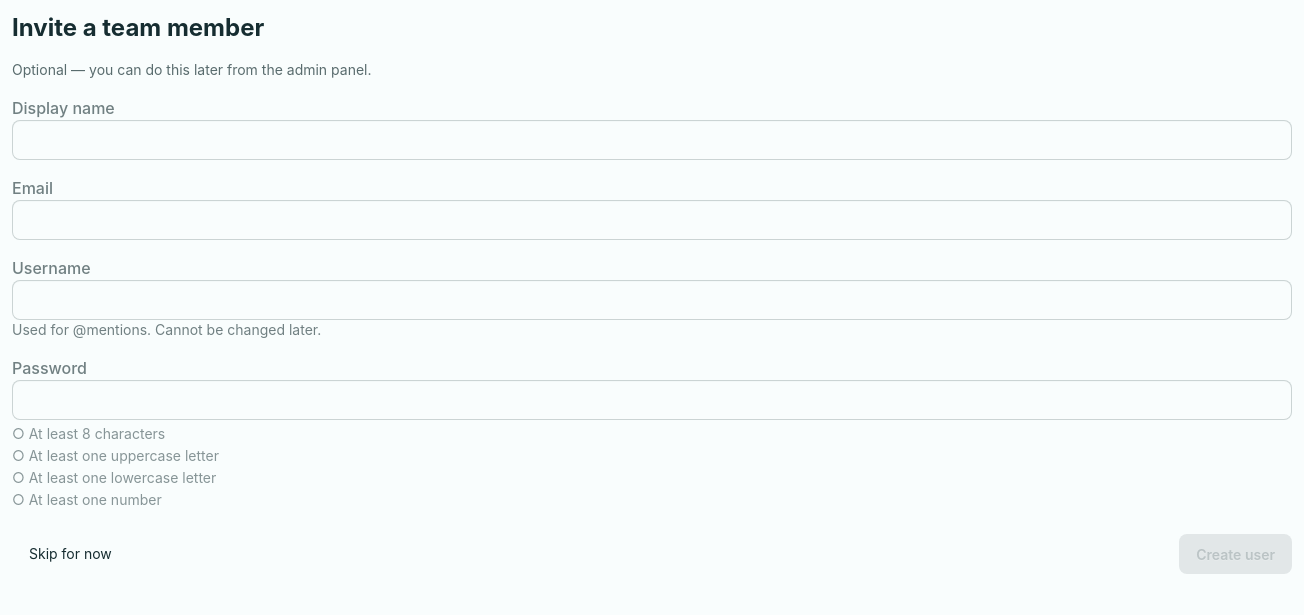
it: wizard team-member step: username › shows "taken" from the server on the username field rather than "email already registered"
This screenshot has width=1304, height=615.
Type "Demo User" into the field with id "user-name" at (652, 140), box [12,120,1292,160]
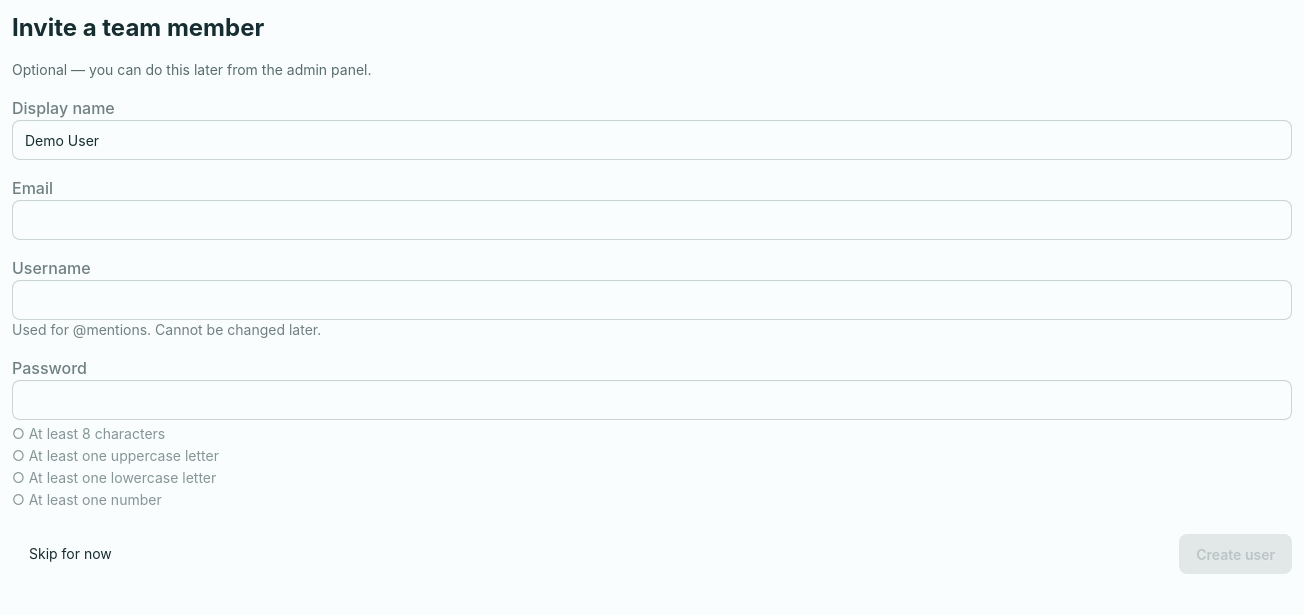
Type "demo@example.com" into the field with id "user-email" at (652, 220), box [12,200,1292,240]
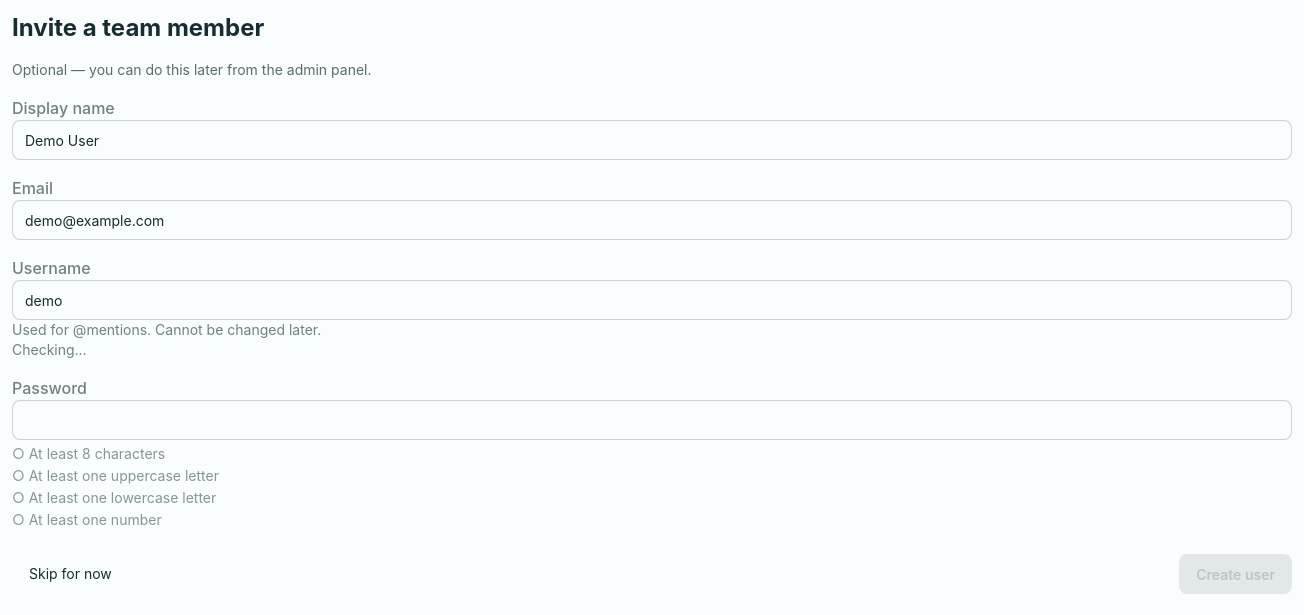
Type "Passw0rd!x" into the password field with id "user-password" at (652, 420), box [12,400,1292,440]
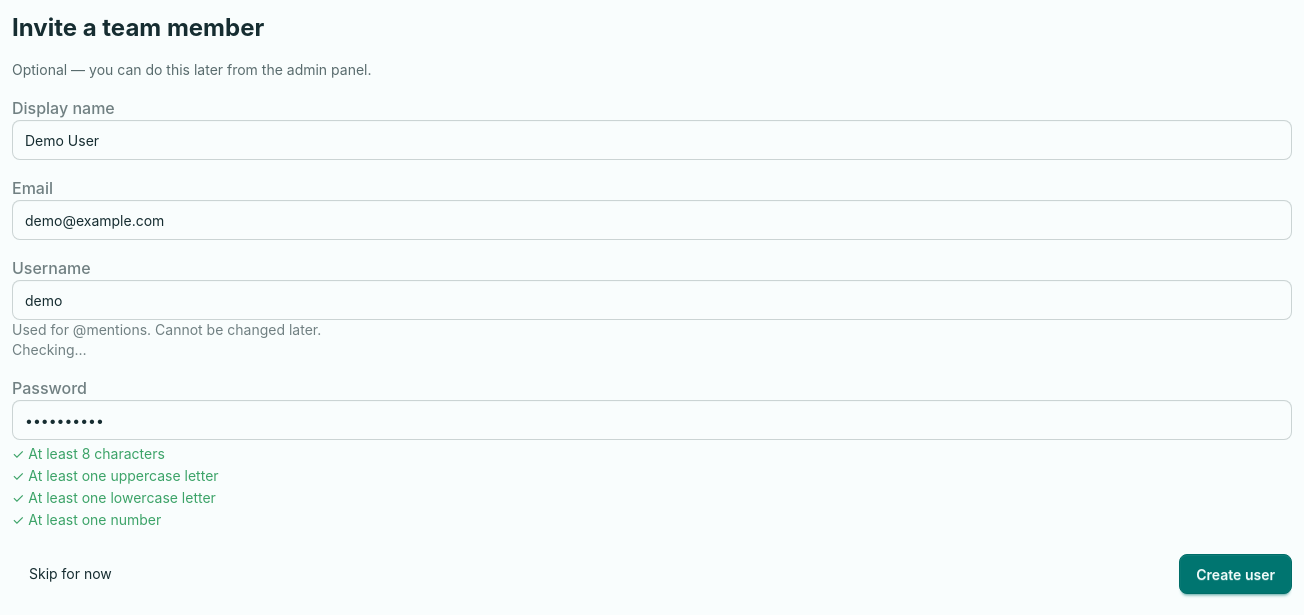
Click the button "Create user" at (1236, 574), box [1179,554,1292,594]
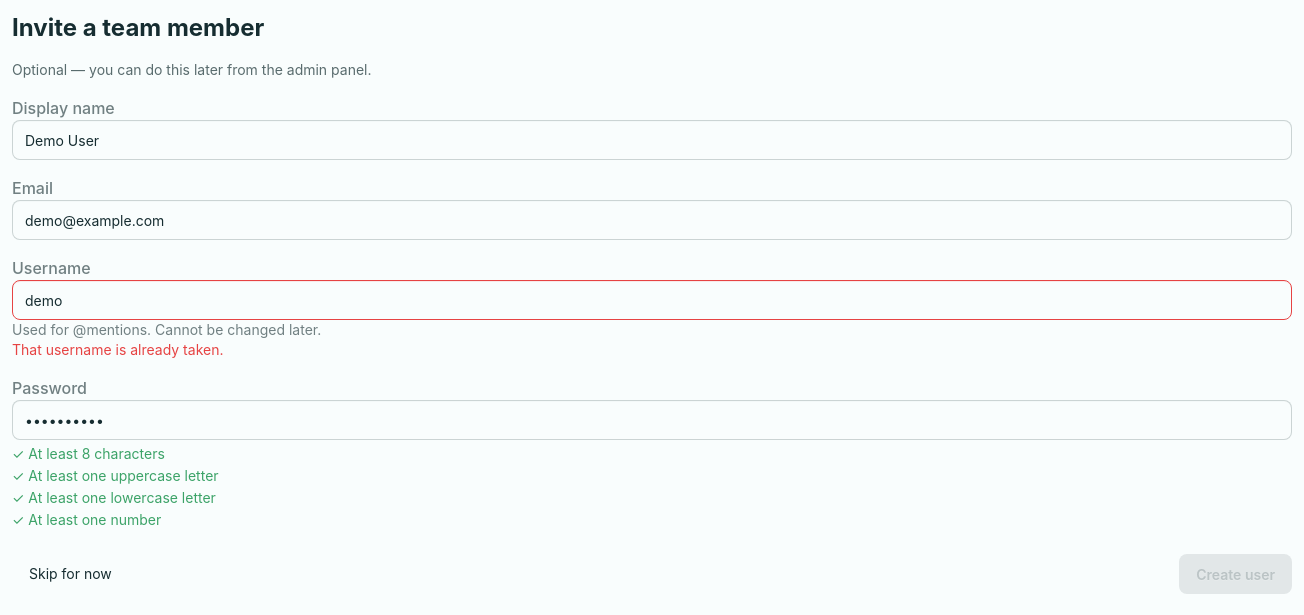
Expected: the message with test id "username-status" reads "That username is already taken.", [12,341,224,358]
